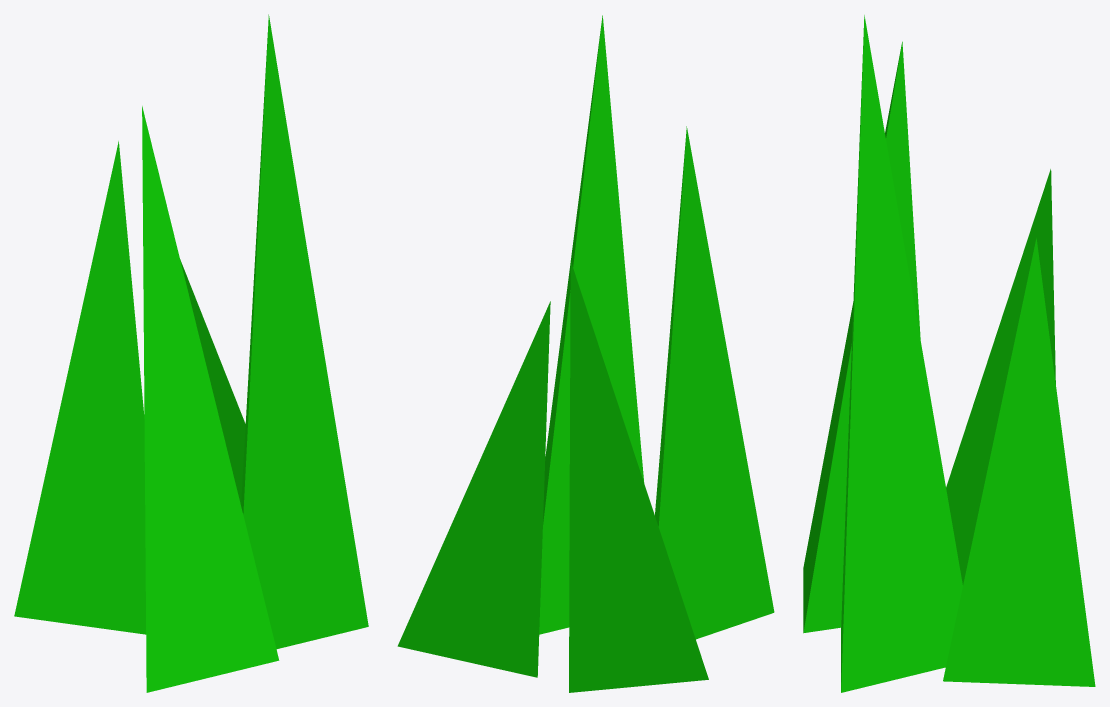
File: Grass.fbx
3 renders of one model, left to right at view 1: azimuth 30°, elevation 25°; view 2: azimuth 150°, elevation 25°; view 3: azimuth 270°, elevation 25°, orthographic. The views are drawn at different scales.
Parts seen in each view (by area): view 1: Grass, Grass.001, Grass.002, Grass.003; view 2: Grass.001, Grass.002, Grass.003, Grass; view 3: Grass, Grass.003, Grass.001, Grass.002.
Part boxes in pixels (x1=…): Grass: x1=241, y1=14, x2=368, y2=648; Grass.001: x1=142, y1=106, x2=279, y2=692; Grass.002: x1=14, y1=141, x2=145, y2=634; Grass.003: x1=180, y1=259, x2=245, y2=504; Grass.001: x1=655, y1=126, x2=774, y2=639; Grass.002: x1=569, y1=261, x2=708, y2=692; Grass.003: x1=397, y1=301, x2=550, y2=677; Grass: x1=539, y1=15, x2=644, y2=634; Grass: x1=841, y1=15, x2=962, y2=692; Grass.003: x1=943, y1=238, x2=1095, y2=686; Grass.001: x1=803, y1=41, x2=920, y2=633; Grass.002: x1=946, y1=169, x2=1055, y2=584.
Bounding box in the file's own units: 96.12 × 203 × 83.35.
